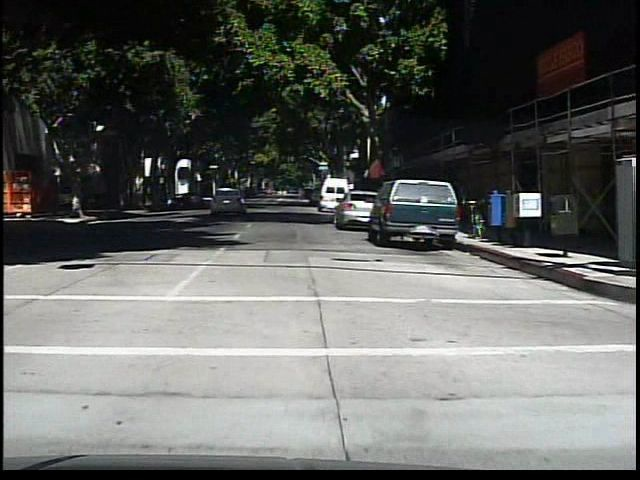person: (64, 181, 80, 218)
